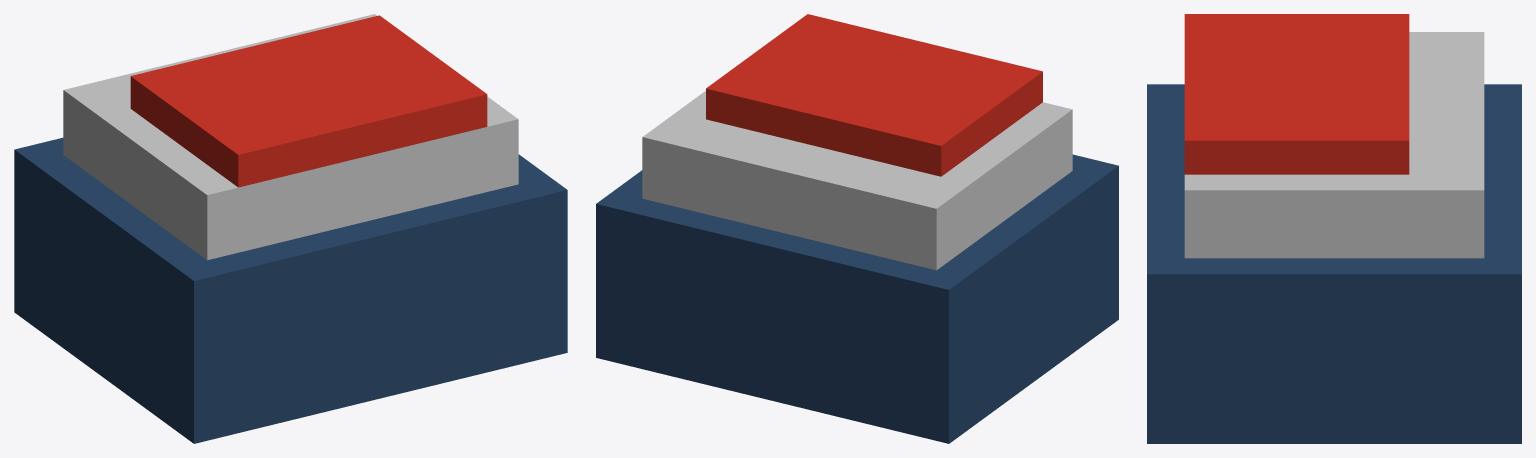
The model's file is thermal_module.obj.
The picture shows the model from 3 angles, left to right: view 1: azimuth 30°, elevation 25°; view 2: azimuth 150°, elevation 25°; view 3: azimuth 270°, elevation 25°; orthographic projection. The views are drawn at different scales.
Parts seen in each view (by area): view 1: thermal_module; view 2: thermal_module; view 3: thermal_module.
Part boxes in pixels (x1,y1,x2,y2): thermal_module: (14, 14, 567, 443); thermal_module: (596, 14, 1118, 443); thermal_module: (1147, 14, 1521, 443).
Size of the model in its own units: 0.24 by 0.16 by 0.2.
